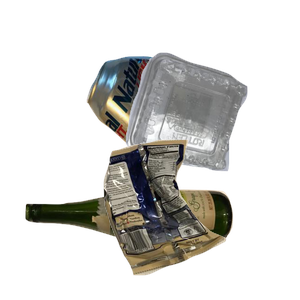glass: (23, 186, 249, 300)
metal: (84, 53, 279, 202)
plastic: (123, 50, 300, 214)
trash: (101, 137, 300, 300)
